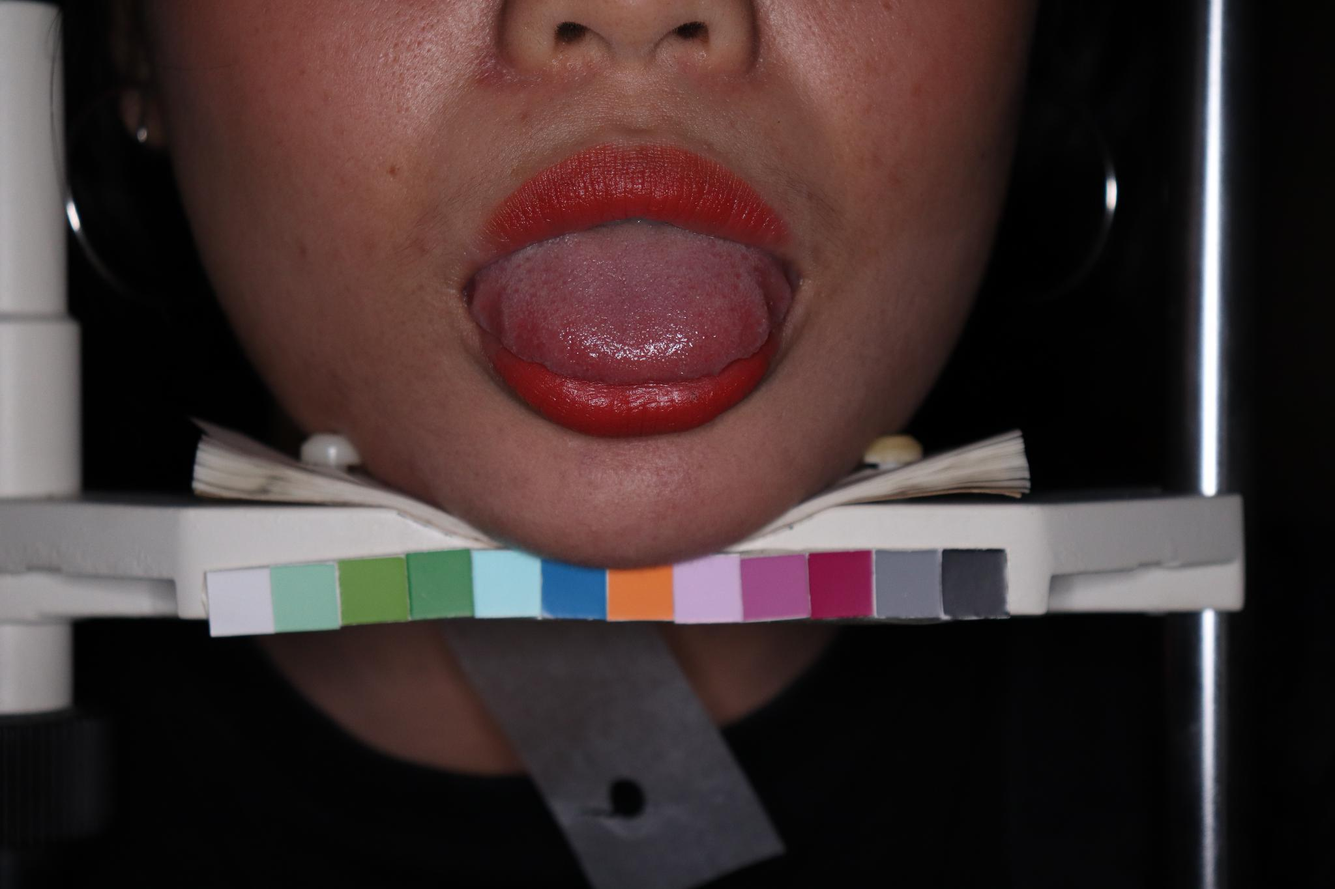baitaishe: (462, 221, 798, 379)
chihenshe: (460, 267, 538, 350), (739, 253, 794, 365)
hongdianshe: (511, 261, 579, 322)
